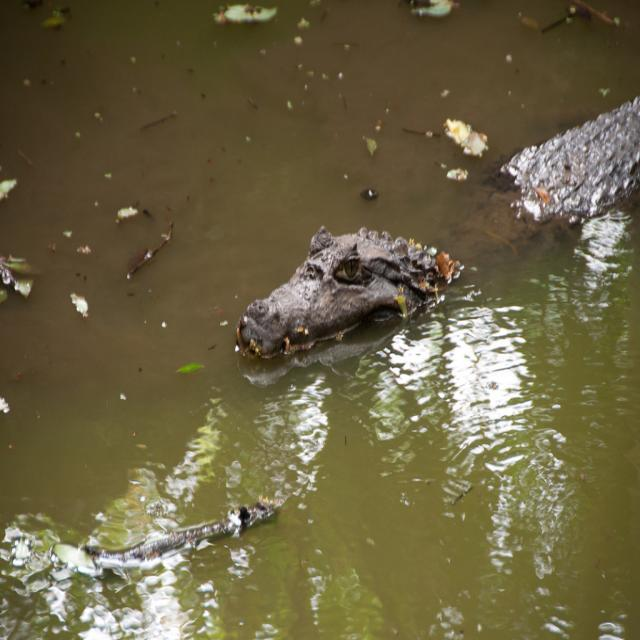crocodile: (236, 225, 462, 365)
